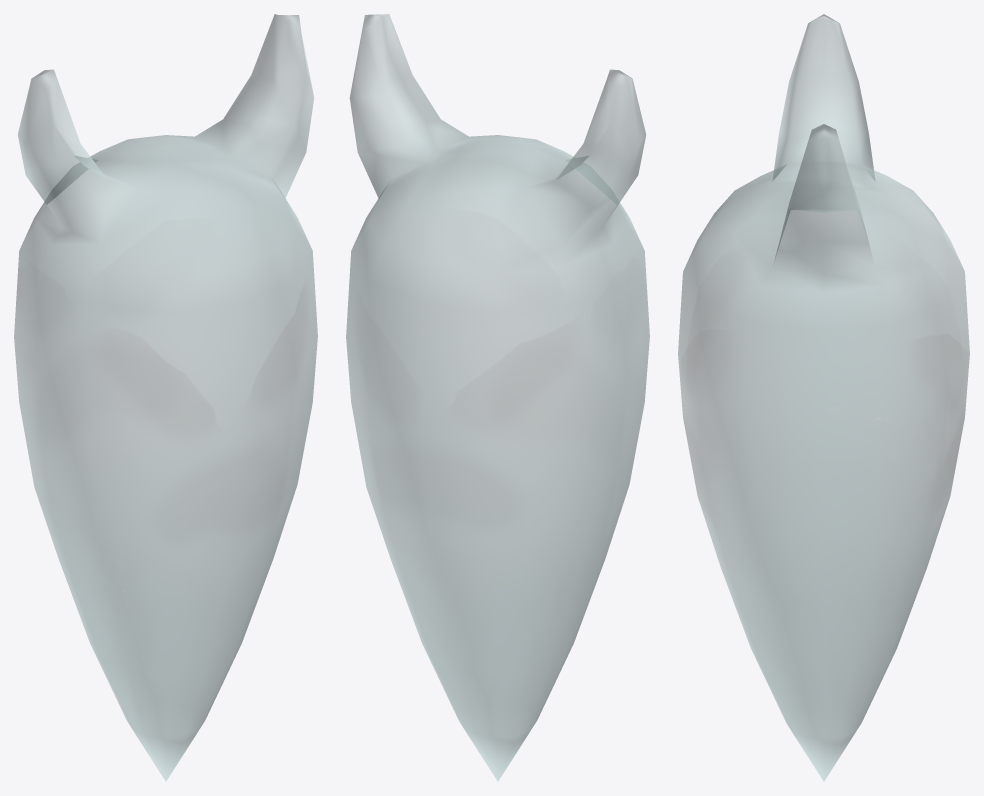
The model's file is Soulshorned_soul02.fbx.
3 views of the same model, side by side, from view 1: azimuth 30°, elevation 25°; view 2: azimuth 150°, elevation 25°; view 3: azimuth 270°, elevation 25° (orthographic). The views are drawn at different scales.
Parts seen in each view (by area): view 1: horned_soul; view 2: horned_soul; view 3: horned_soul.
Boxes of the visible parts, x1=… form: horned_soul: x1=14, y1=14, x2=317, y2=781; horned_soul: x1=346, y1=14, x2=649, y2=781; horned_soul: x1=678, y1=14, x2=969, y2=781.
Bounding box in the file's own units: 0.3912 × 0.9805 × 0.3651.
1 material, 1 textured.
